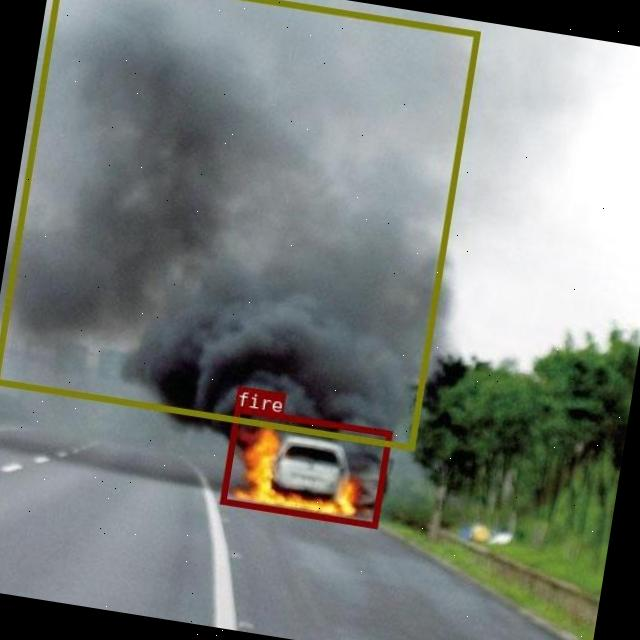fire: (219, 406, 390, 528)
smoke: (0, 0, 479, 449)
